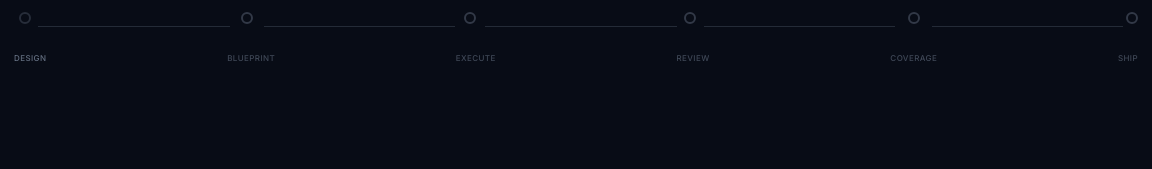
Test: COMP-LIFECYCLE-BACKFILL UI provenance › mutes the historical backfilled dot, not the live terminal
Click the button titled "Design".
click(25, 26)  # box x1=12 y1=12 x2=38 y2=40
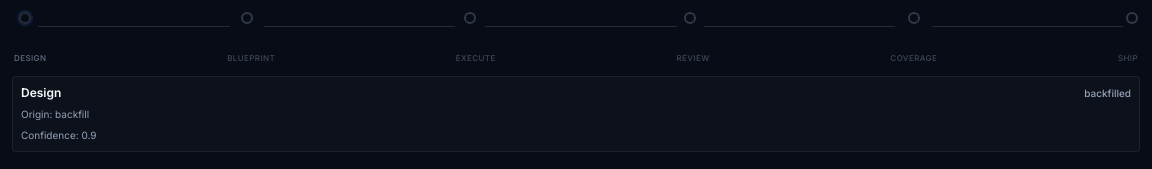
Expected: the text "Origin: backfill" is shown, x1=21 y1=108 x2=89 y2=120
Expected: the text "Confidence: 0.9" is shown, x1=21 y1=129 x2=96 y2=141
